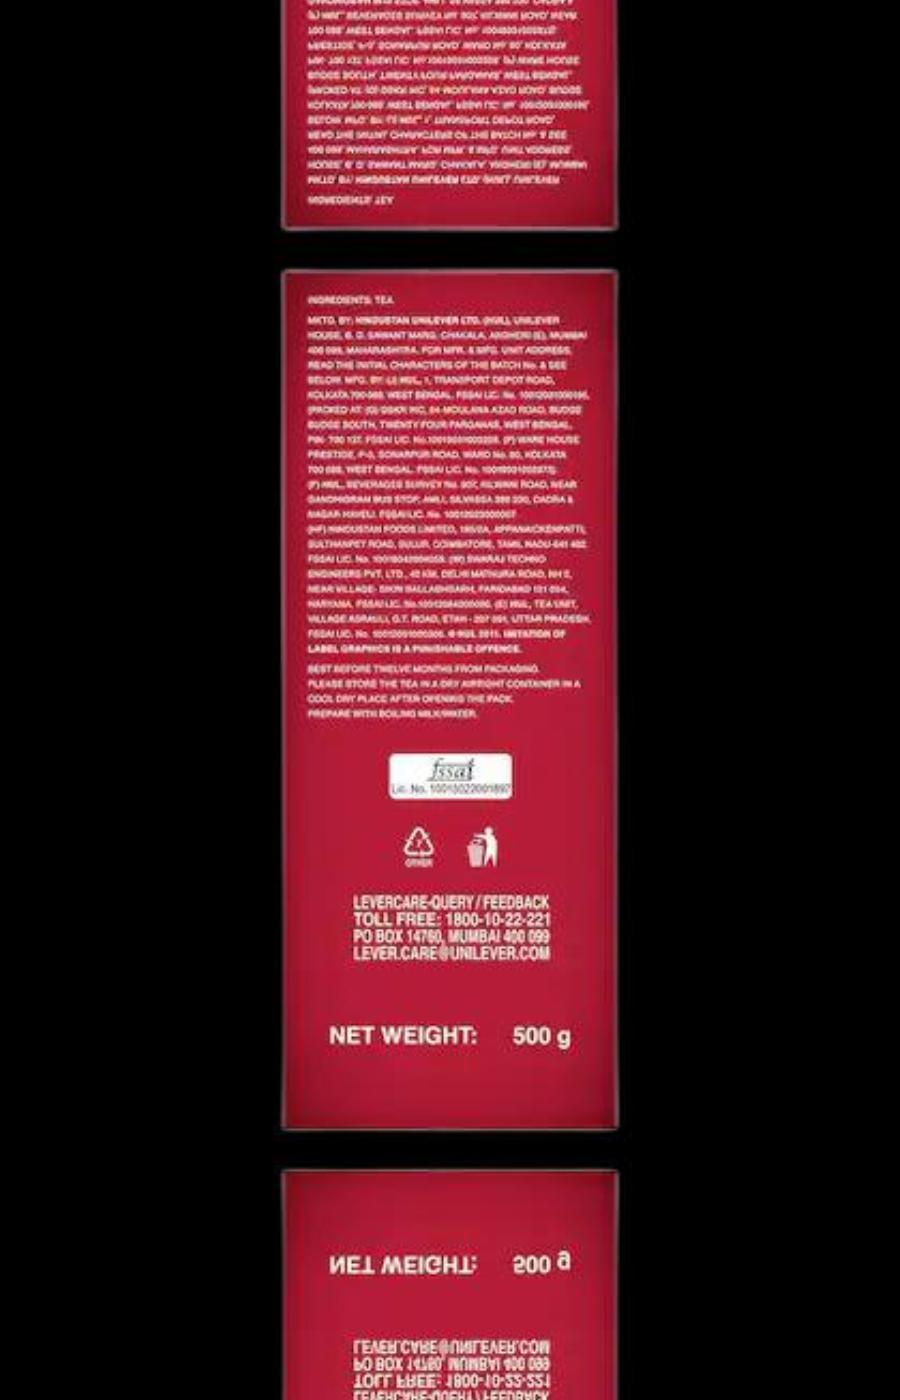Brooke Bond Red Label Leaf Tea 500 g: (264, 259, 644, 1141), (264, 0, 644, 241), (264, 1159, 644, 1400)
